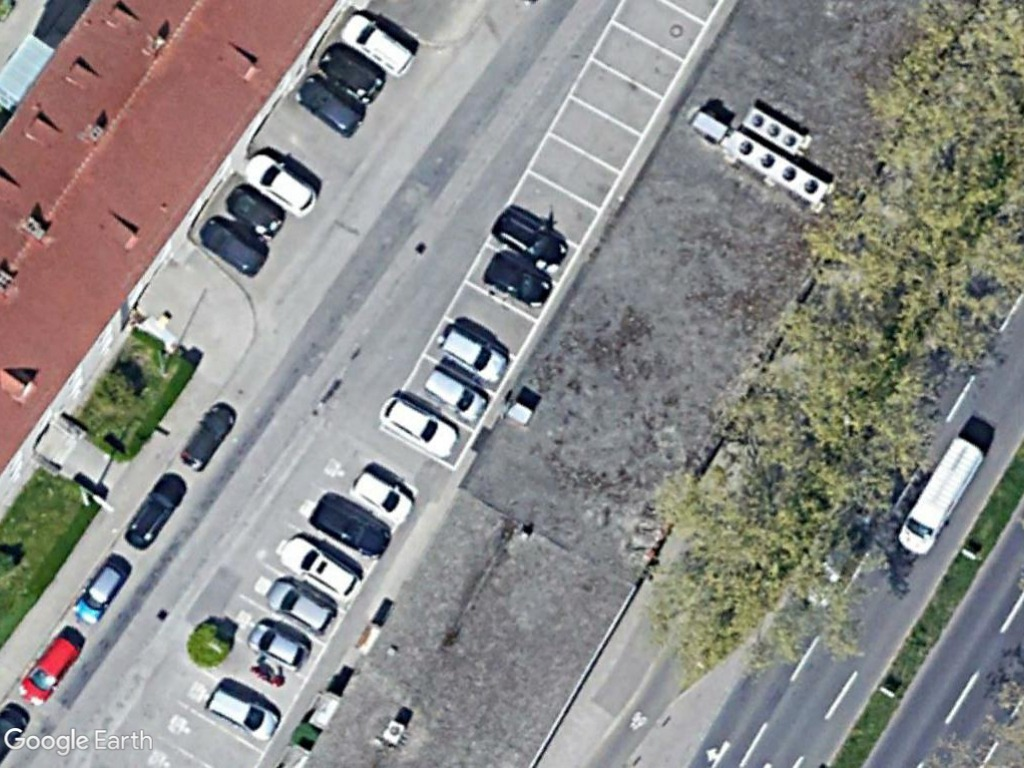car: (276, 532, 363, 604), (374, 392, 460, 461), (305, 497, 394, 563), (238, 151, 321, 220), (120, 469, 189, 552), (338, 10, 418, 80), (286, 73, 368, 139), (192, 211, 270, 280), (488, 208, 570, 273), (477, 246, 556, 311), (15, 632, 83, 707), (177, 398, 241, 474), (201, 684, 280, 744), (433, 320, 507, 384), (262, 576, 338, 637), (318, 42, 387, 105), (419, 364, 488, 425), (346, 467, 414, 526), (68, 559, 126, 627), (222, 185, 288, 243), (245, 619, 314, 672)
van: (892, 436, 988, 559)
